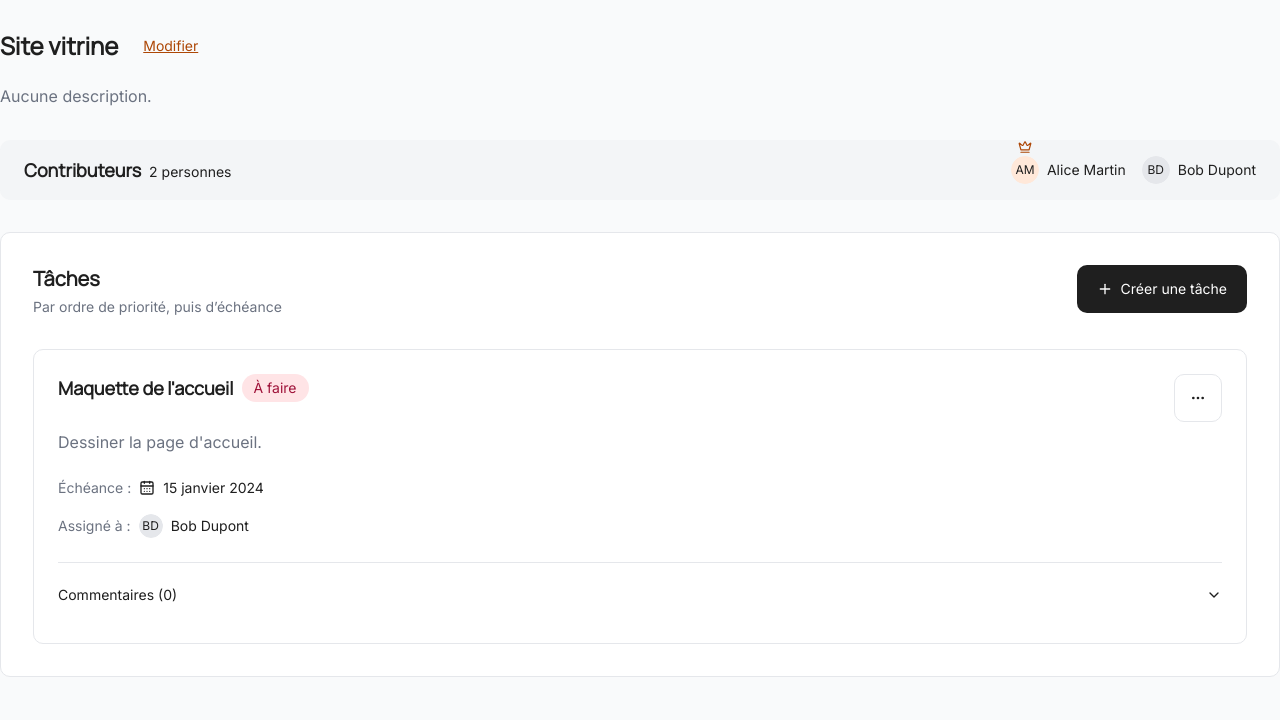
task creation › announces a task kept as « À faire » when its status cannot be saved
Expected: the list named "Tâches du projet" is shown, [33, 349, 1247, 644]
Click the button "Créer une tâche" at (1162, 289), box [1077, 265, 1247, 313]
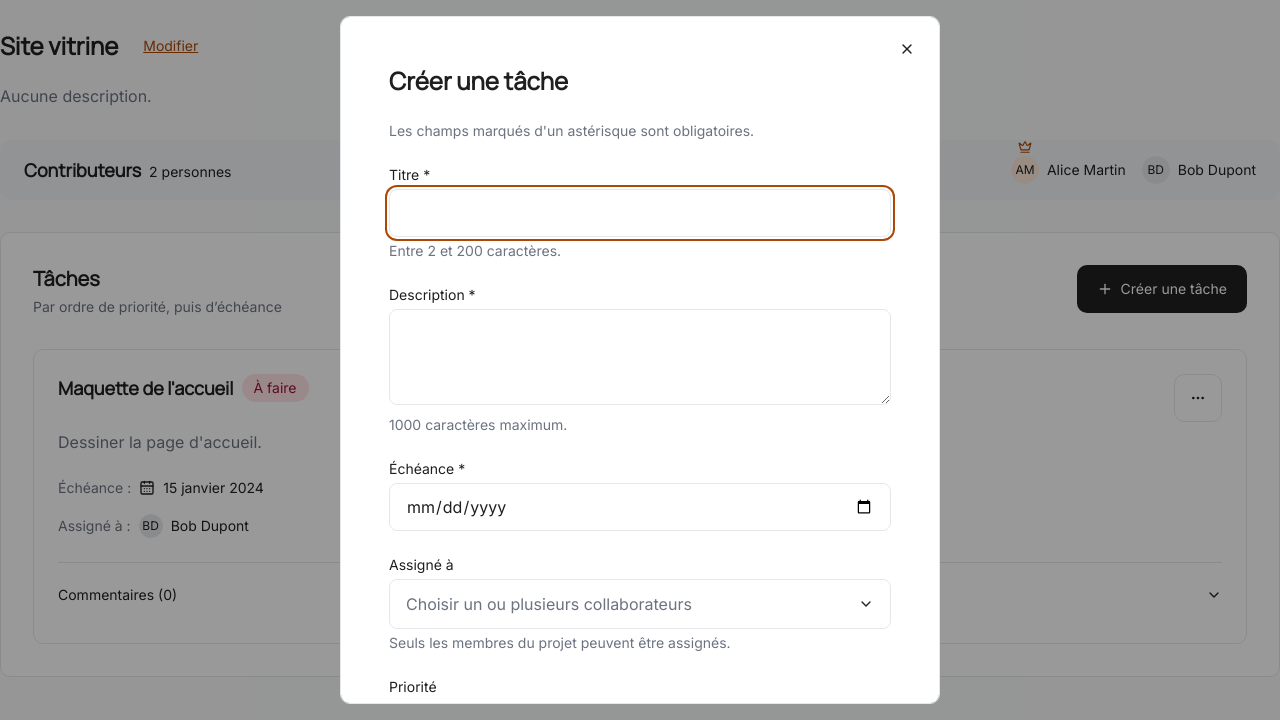
Type "  Rédiger les textes  " into the field labelled "Titre" at (640, 213), box [389, 189, 891, 237]
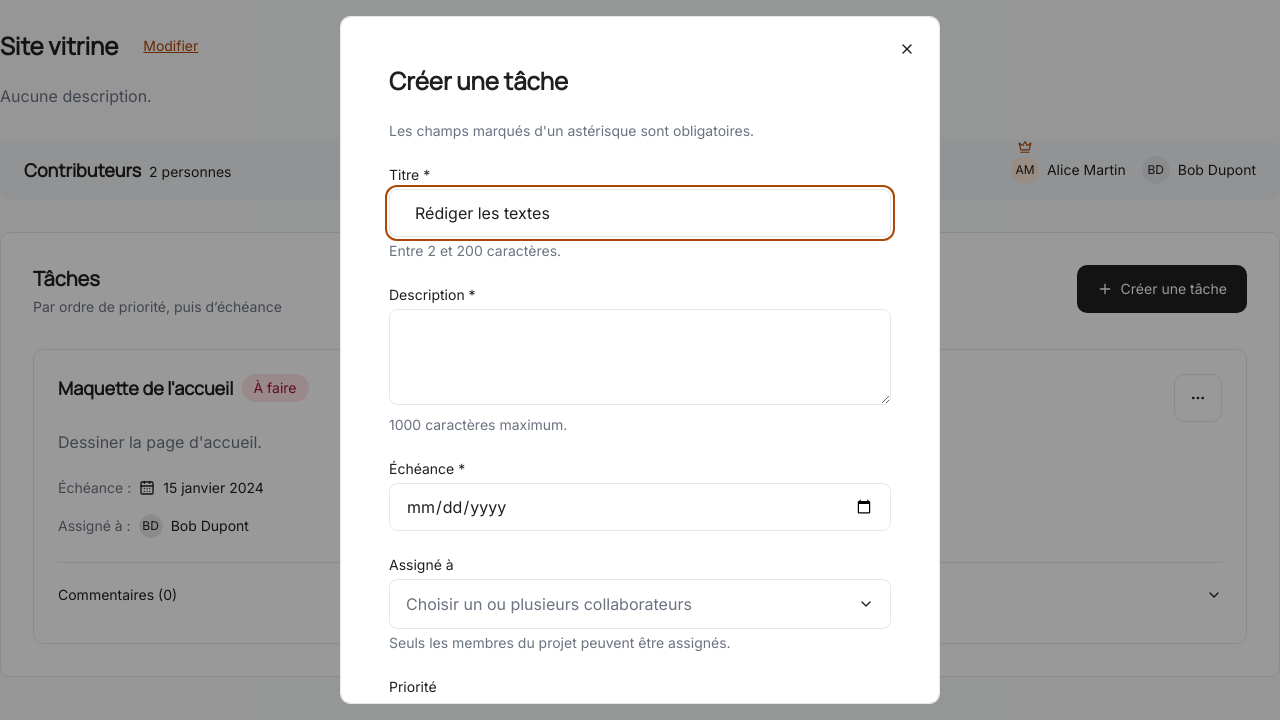
Type "Textes de la page d'accueil." into the text box labelled "Description" at (640, 357), box [389, 309, 891, 405]
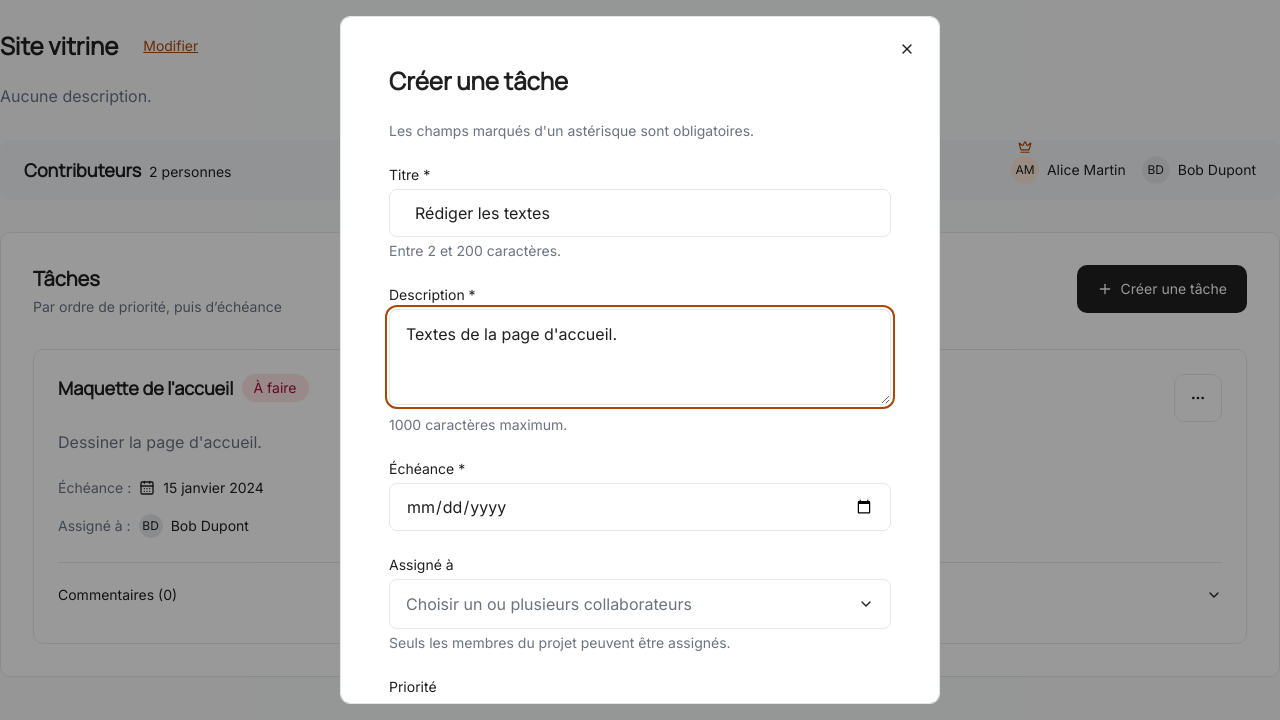
Type "2026-03-09" into the date field labelled "Échéance *" at (640, 507), box [389, 483, 891, 531]
(page scrolled)
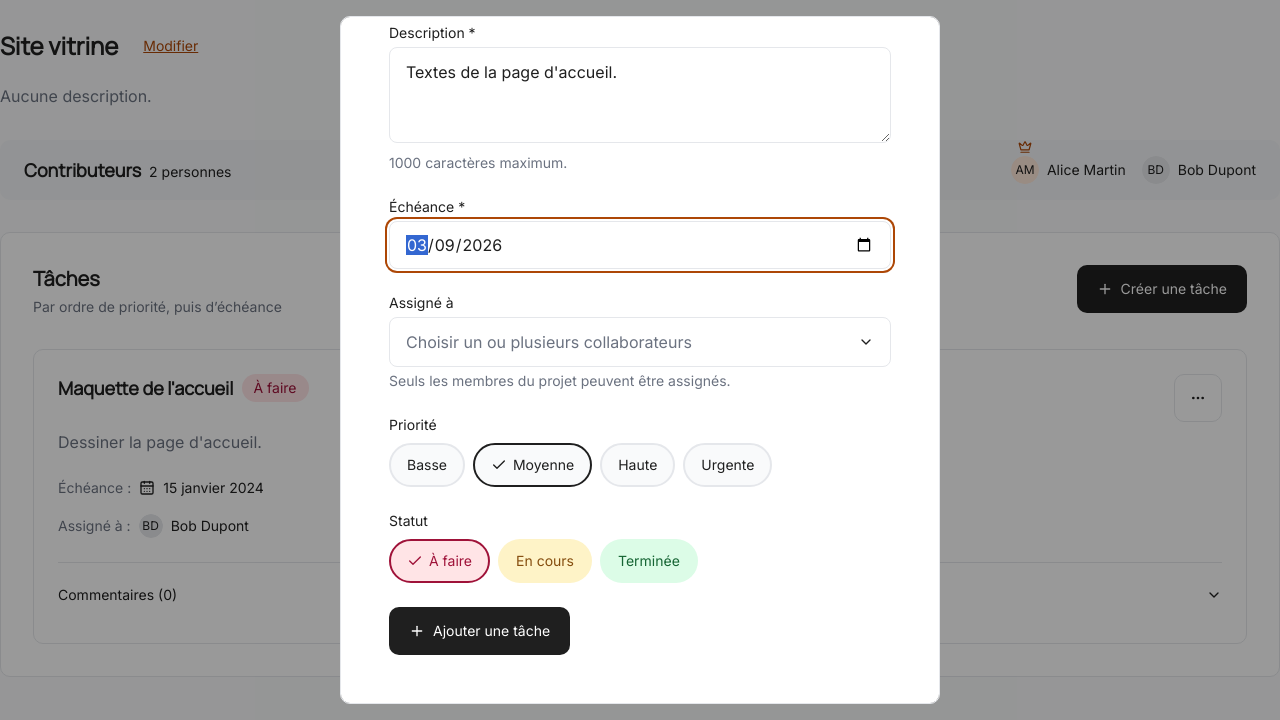
Click the radio button labelled "Terminée" at (649, 561), box [600, 539, 698, 583]
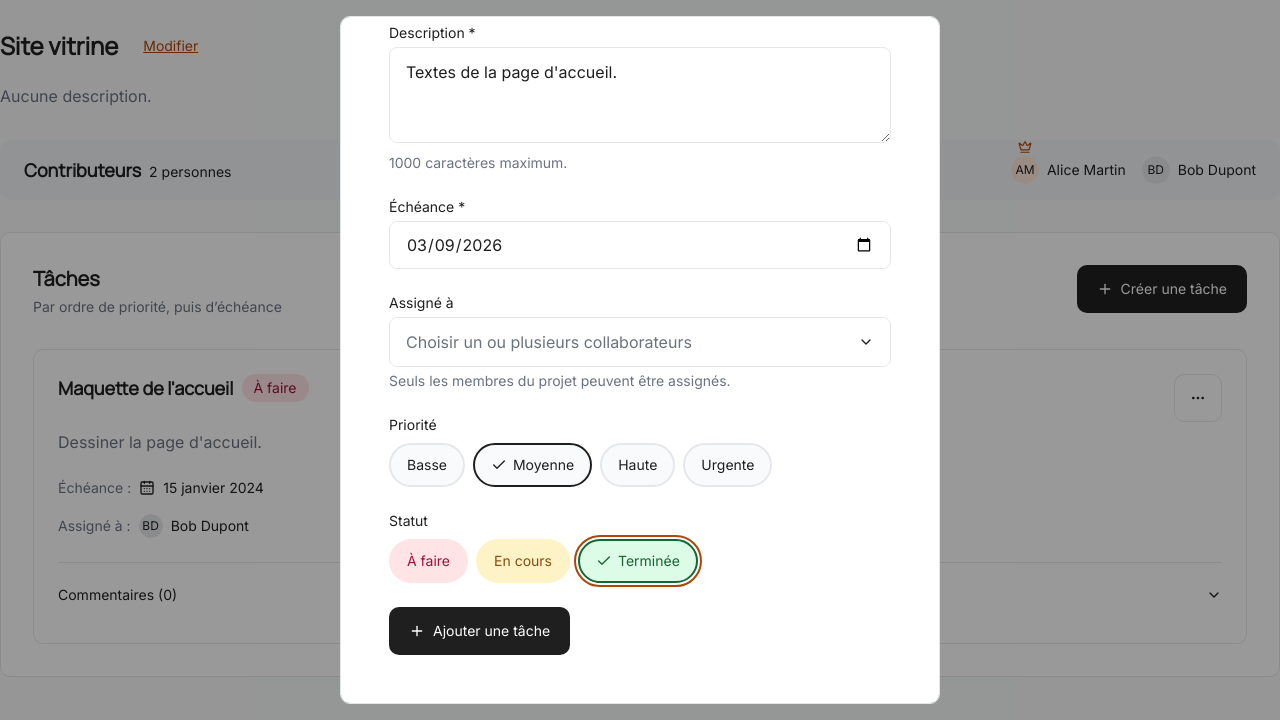
Click the button "Ajouter une tâche" at (480, 631), box [389, 607, 570, 655]
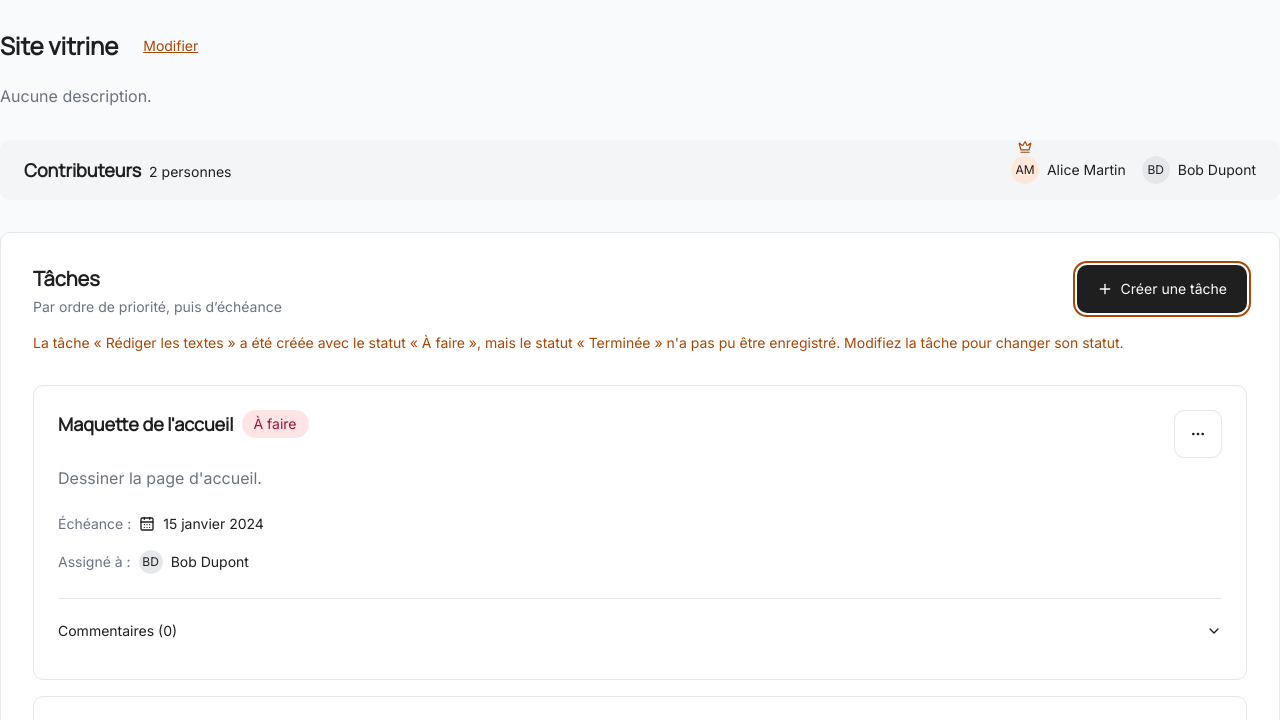
Expected: the message shows "La tâche « Rédiger les textes » a été créée avec le statut « À faire », mais le statut « Terminée » n'a pas pu être enregistré.", [33, 334, 1124, 351]
